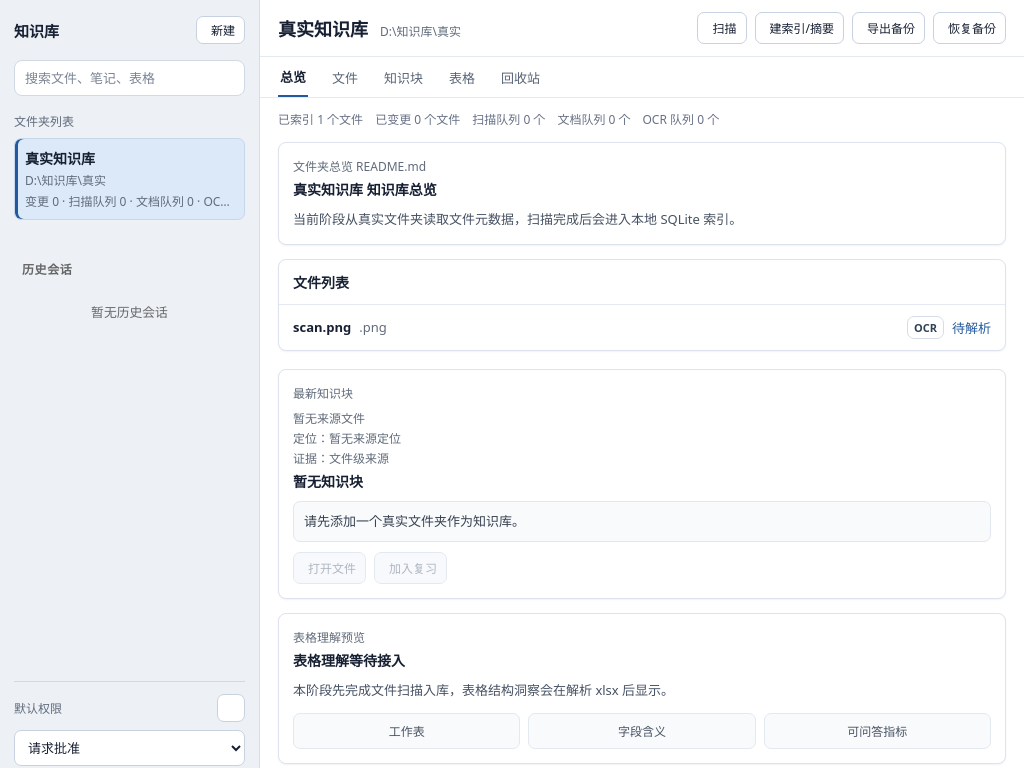
Test: App › queues an image file for OCR through the desktop command
The width and height of the screenshot is (1024, 768).
Expected: the text "scan.png" is shown, x1=293 y1=318 x2=351 y2=336
Click the button with aria-label "排队 OCR scan.png" at coordinates (926, 327), box x1=907 y1=316 x2=944 y2=339
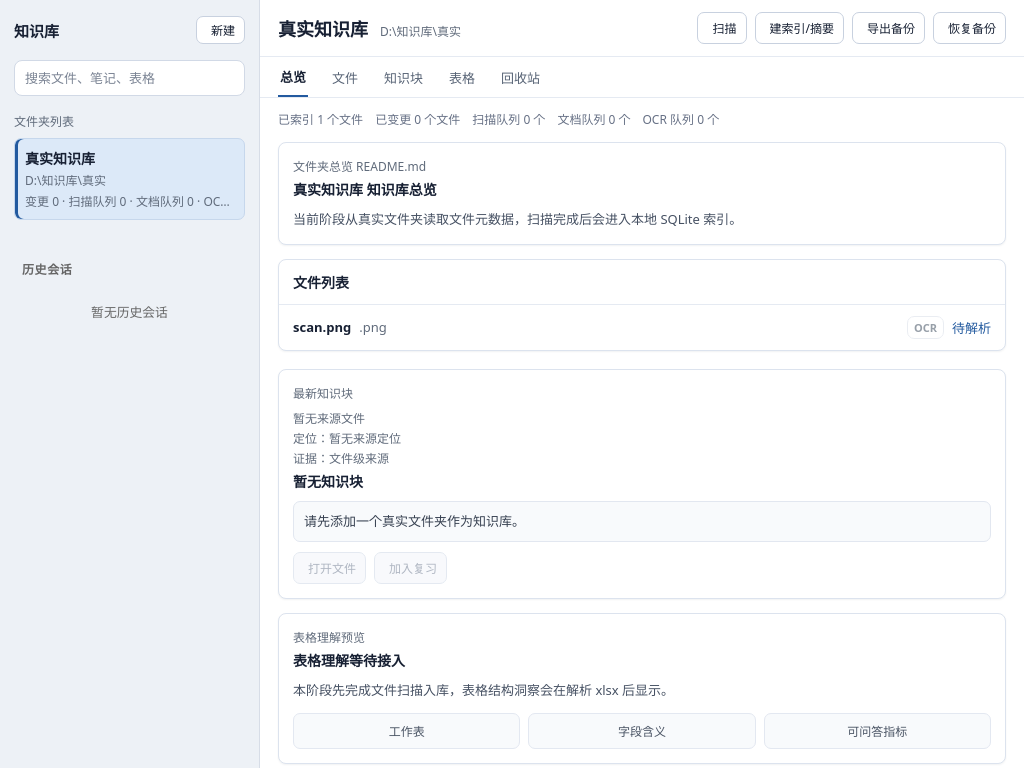
Now the button with aria-label "排队 OCR scan.png" is disabled, box x1=907 y1=316 x2=944 y2=339
